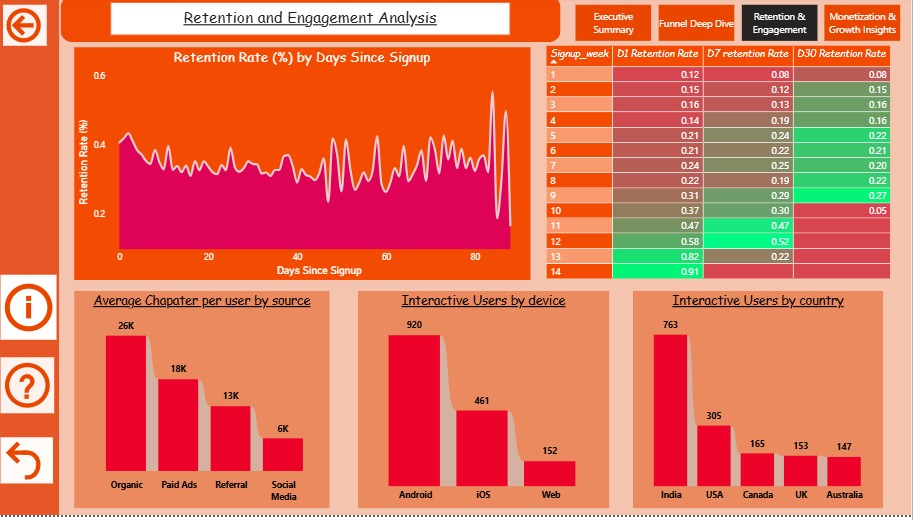

Layout of this report page (visuals, bound fields, positions):
{"tool":"powerbi","page":{"name":"Retention & Engagement","canvas":[1280,720],"ordinal":2},"visuals":[{"type":"shape","box":[11.1,1.4,1268.9,719.3],"z":0},{"type":"shape","box":[10.5,0,88.4,719.8],"z":1000},{"type":"stackedAreaChart","fields":{"Y":["reading_app_funnel_dataset.Retention Rate (%)"],"Category":["reading_app_funnel_dataset.Days Since Signup.Variation.Date Hierarchy.Year"]},"box":[119.7,71,631.7,322.8],"z":2000},{"type":"pivotTable","fields":{"Rows":["reading_app_funnel_dataset.Signup_week"],"Values":["reading_app_funnel_dataset.D1 Retention Rate","reading_app_funnel_dataset.D7 retention Rate","reading_app_funnel_dataset.D30 Retention Rate"]},"box":[769.4,64,499.5,336.7],"z":3000},{"type":"columnChart","fields":{"Y":["reading_app_funnel_dataset.Average Chapater per user"],"Category":["reading_app_funnel_dataset.source"]},"box":[119.7,409,353.4,300.5],"z":4000},{"type":"columnChart","fields":{"Category":["reading_app_funnel_dataset.device"],"Y":["reading_app_funnel_dataset.Interactive Users"]},"box":[513.4,409,347.8,300.5],"z":5000},{"type":"columnChart","fields":{"Category":["reading_app_funnel_dataset.country"],"Y":["reading_app_funnel_dataset.Interactive Users"]},"box":[893.2,409,346.4,300.5],"z":6000},{"type":"shape","box":[100.2,0,692.9,64],"z":7000},{"type":"textbox","box":[169.7,8.3,553.7,45.9],"z":8000}]}

Visuals, with their boxes in screenshot pixels (x1, y1, x2, y2), scaled from the page's 1280x720 canvas onto the 915x520 screenshot:
shape: bbox(8, 1, 914, 519)
shape: bbox(8, 0, 71, 519)
stackedAreaChart - reading_app_funnel_dataset.Retention Rate (%) x reading_app_funnel_dataset.Days Since Signup.Variation.Date Hierarchy.Year: bbox(86, 51, 537, 284)
pivotTable - reading_app_funnel_dataset.Signup_week x reading_app_funnel_dataset.D1 Retention Rate: bbox(550, 46, 907, 289)
columnChart - reading_app_funnel_dataset.Average Chapater per user x reading_app_funnel_dataset.source: bbox(86, 295, 338, 512)
columnChart - reading_app_funnel_dataset.device x reading_app_funnel_dataset.Interactive Users: bbox(367, 295, 616, 512)
columnChart - reading_app_funnel_dataset.country x reading_app_funnel_dataset.Interactive Users: bbox(638, 295, 886, 512)
shape: bbox(72, 0, 567, 46)
textbox: bbox(121, 6, 517, 39)
